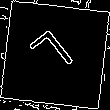L_SE: (27, 26, 83, 84)
